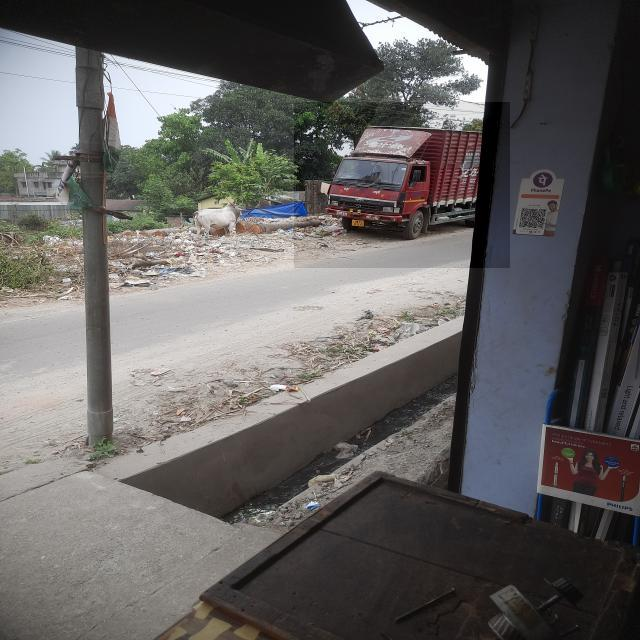Truck: (294, 102, 510, 268)
